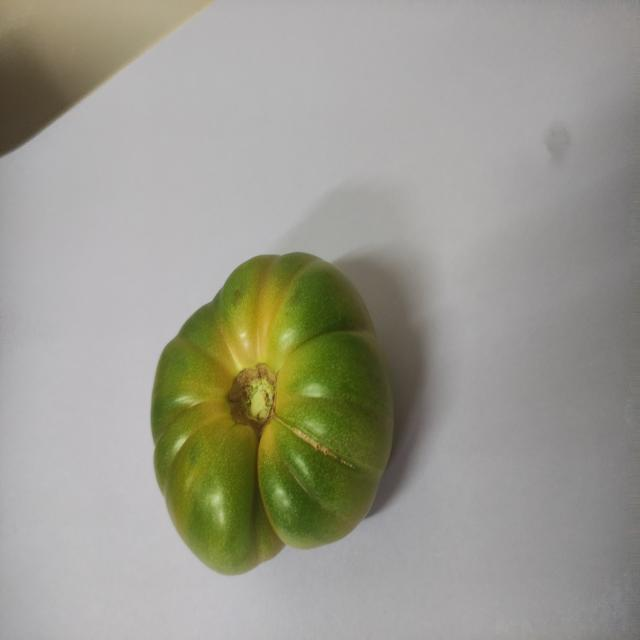yesil: (128, 251, 426, 578)
